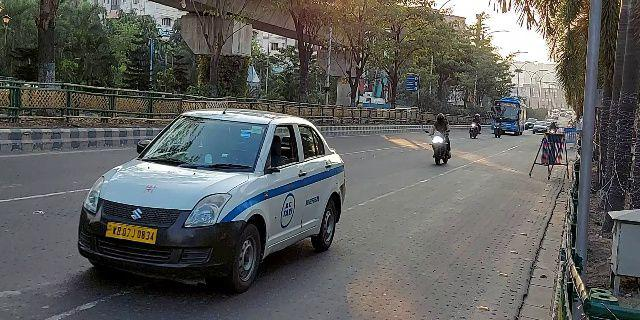Bus: (489, 96, 523, 139)
Car: (74, 112, 351, 295)
Motorbike: (427, 111, 453, 170), (466, 109, 482, 141)
